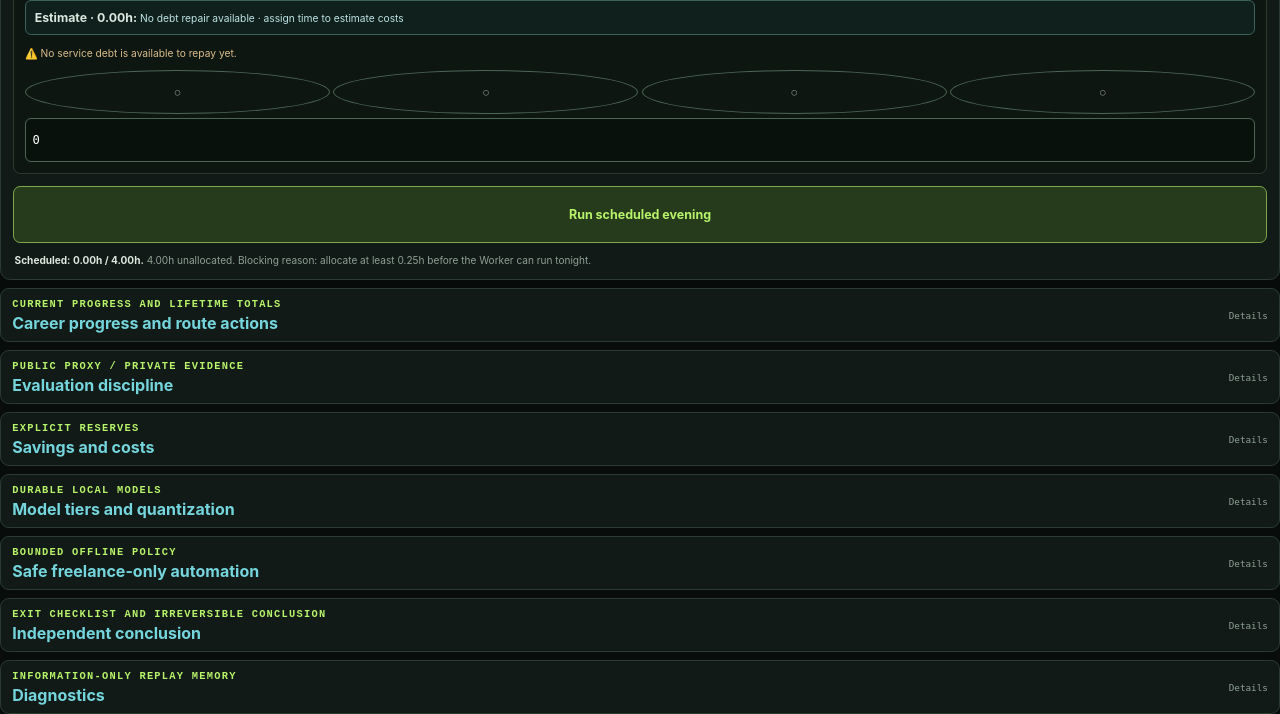
Phase 4 compact money boundaries › formats the exit target compactly while retaining current savings exactly
The image size is (1280, 714).
(page scrolled)
Click the heading named "Show Independent conclusion".
click(169, 614)  # box x1=1 y1=599 x2=1279 y2=651
(page scrolled)
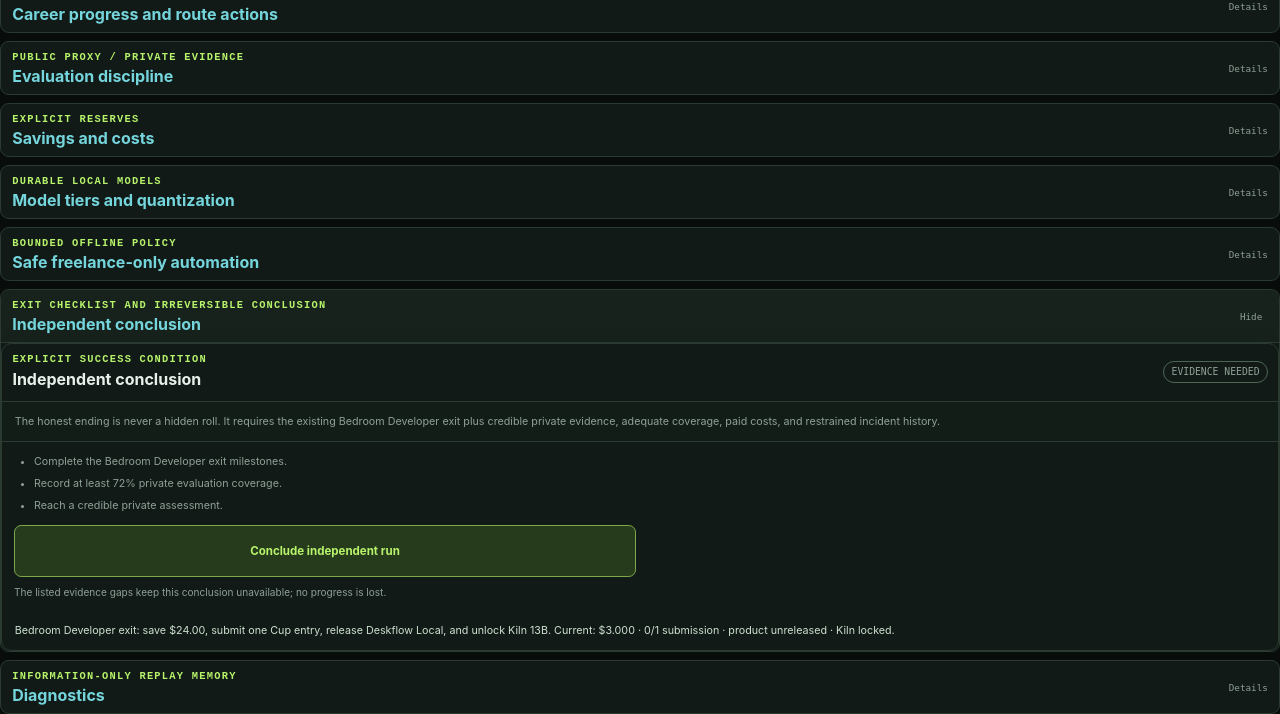
Expected: the text "Bedroom Developer exit:" shows "Bedroom Developer exit: save $24.00, submit one Cup entry, release Deskflow Local, and unlock Kiln 13B. Current: $3.000", x1=15 y1=624 x2=895 y2=637
